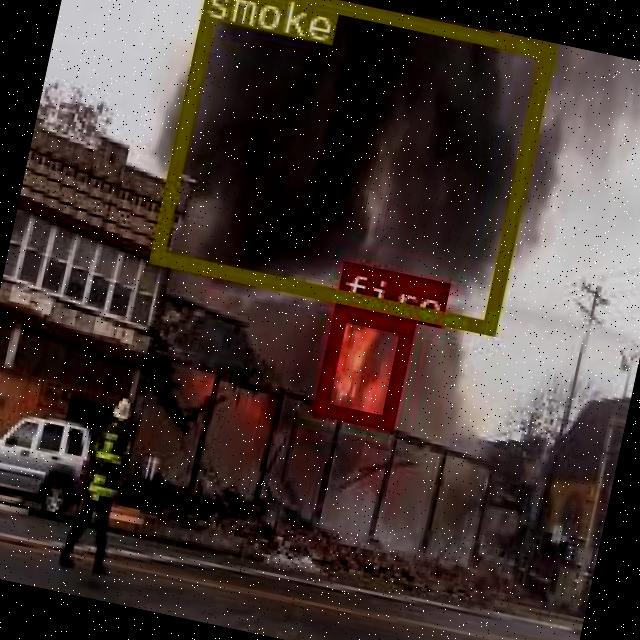fire: (310, 303, 412, 425)
smoke: (148, 0, 552, 331)
